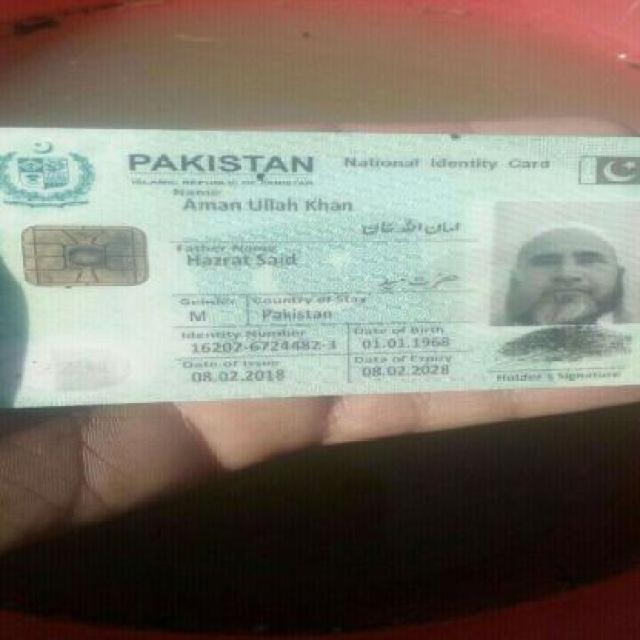Front: (2, 122, 624, 389)
